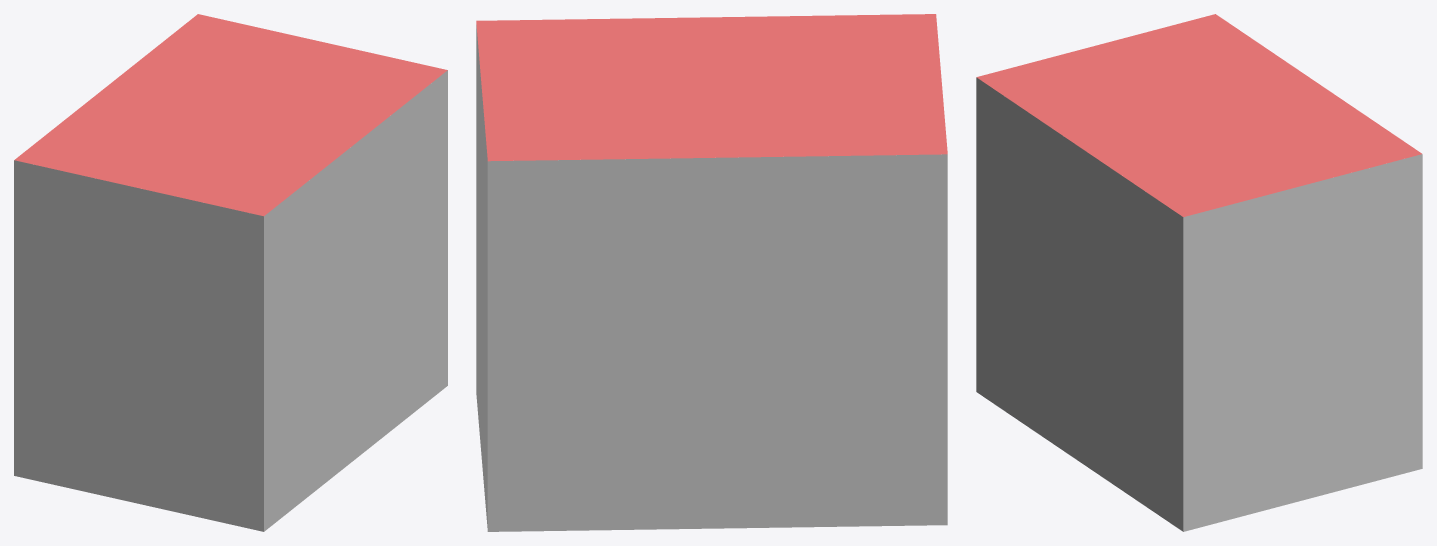
The model's file is ID_8b077b9a-bdc5-4943-80b8-a521c9bbbd25.gltf.
3 views of the same model, side by side, from view 1: azimuth 30°, elevation 25°; view 2: azimuth 150°, elevation 25°; view 3: azimuth 270°, elevation 25° (orthographic). The views are drawn at different scales.
Parts seen in each view (by area): view 1: Z_UP; view 2: Z_UP; view 3: Z_UP.
Part boxes in pixels (x1,y1,x2,y2): Z_UP: [14, 14, 447, 531]; Z_UP: [476, 14, 947, 531]; Z_UP: [976, 14, 1422, 531].
Bounding box in the file's own units: 22.15 × 16 × 20.56.
